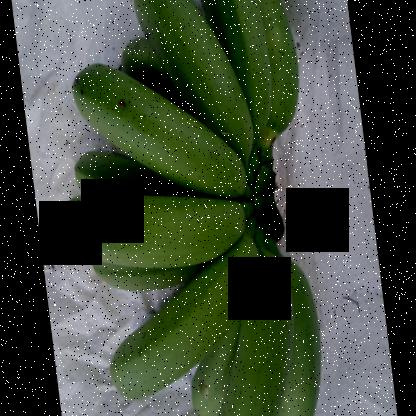freshunripe: (102, 245, 262, 401), (128, 1, 260, 158), (50, 180, 258, 274), (213, 255, 300, 415), (216, 1, 301, 137)
unripe: (56, 64, 245, 194)
